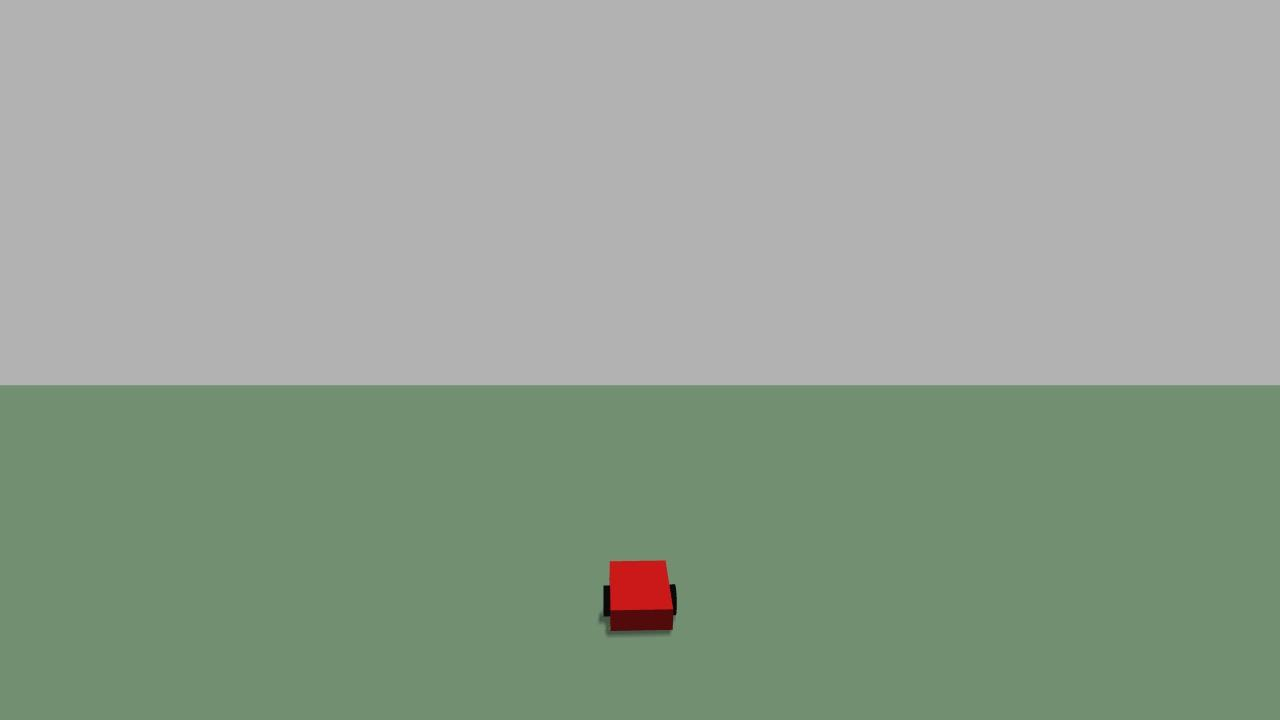ground_vehicle: (595, 541, 686, 646)
